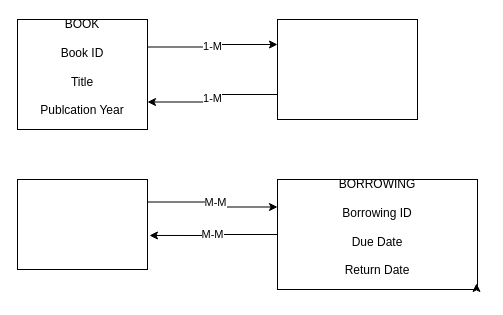
This 503x315 diagram has some shape labels left out. Each missing label, with the centre of its shape:
"AUTHOR Author ID Name" goes at (347,69).
"LIBRARY MEMBER Member ID Name" goes at (82,224).
